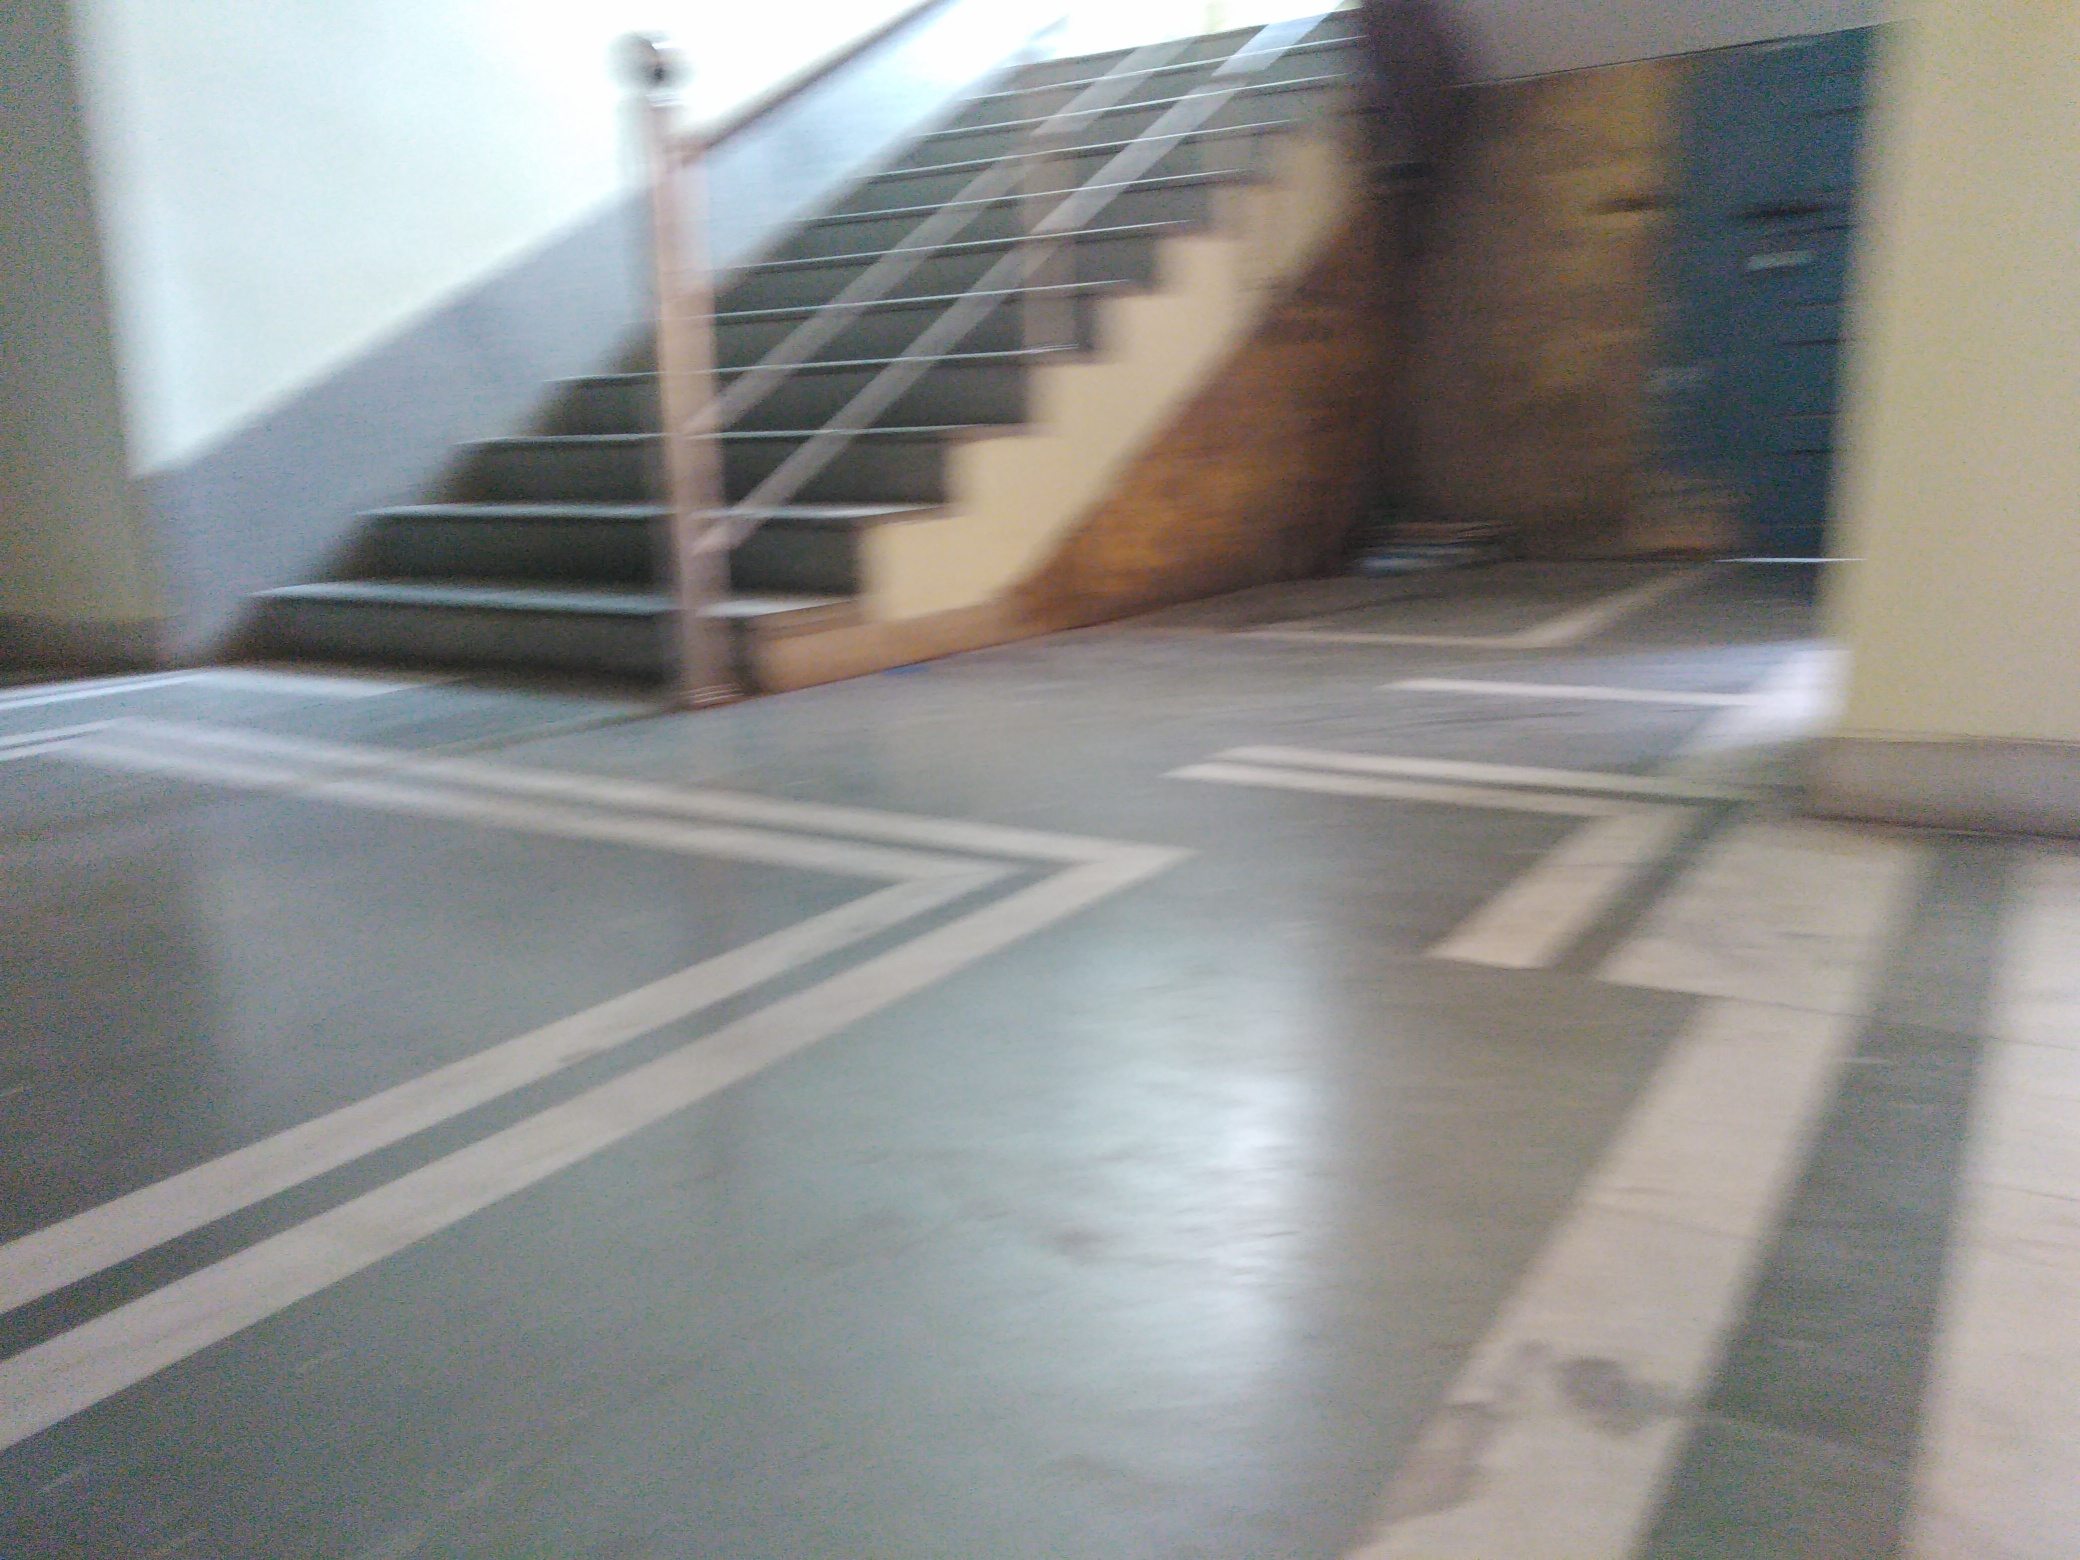stairs_up: (269, 66, 1205, 695)
